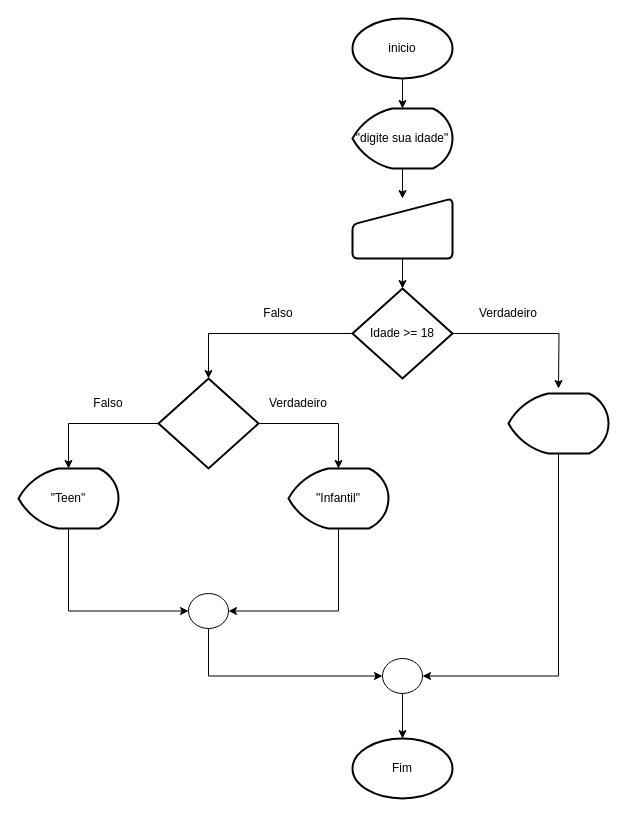
The diagram is 626 pixels wide and 816 high, and some of its shapes have lost their labels. Here are the shapes that lost their labels. From the top down, the centre of each, then its label:
(x=402, y=228): Idade (inteiro)
(x=208, y=423): idade <= 12
(x=558, y=423): "Senior"
